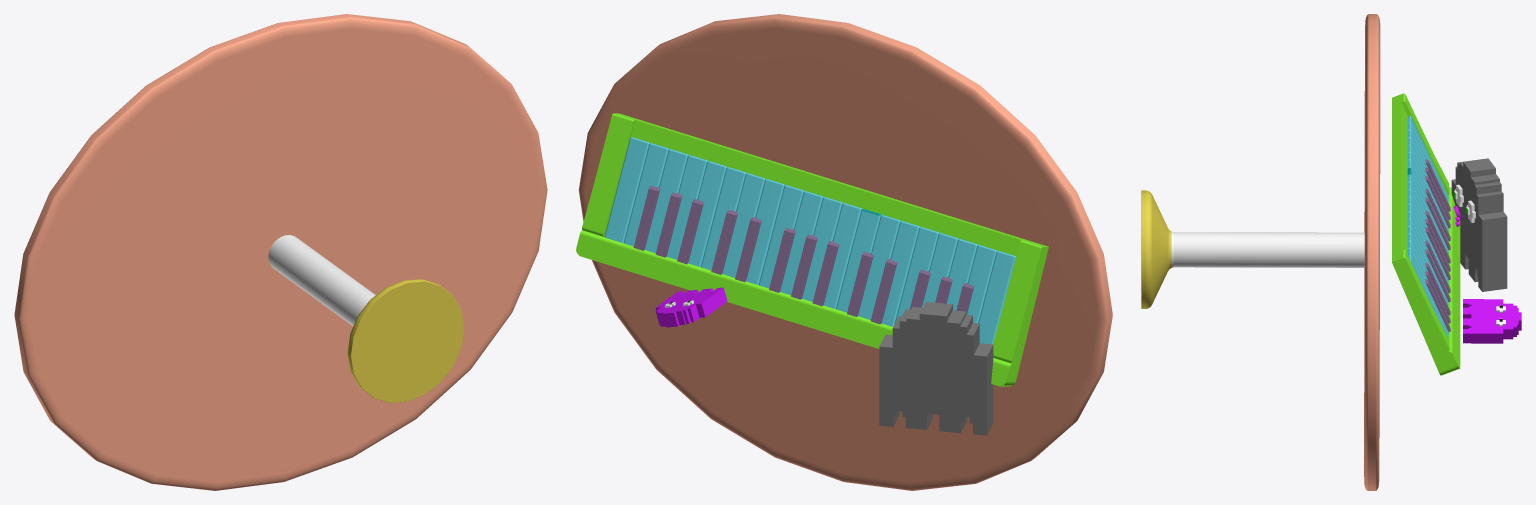
File: piano.glb
3 views of the same model, side by side, from view 1: azimuth 30°, elevation 25°; view 2: azimuth 150°, elevation 25°; view 3: azimuth 270°, elevation 25° (orthographic). The views are drawn at different scales.
Parts seen in each view (by area): view 1: pCylinder45; view 2: pCylinder45, group15_pCube24, group12_pCube53, group12_pCube53.001; view 3: pCylinder45, group15_pCube24, group12_pCube53, group12_pCube53.001.
Part boxes in pixels (x1,y1,x2,y2): pCylinder45: [14, 14, 547, 490]; pCylinder45: [578, 14, 1112, 490]; group15_pCube24: [576, 113, 1048, 386]; group12_pCube53: [879, 302, 993, 435]; group12_pCube53.001: [655, 287, 727, 327]; pCylinder45: [1141, 14, 1380, 490]; group15_pCube24: [1392, 93, 1460, 375]; group12_pCube53: [1451, 158, 1507, 291]; group12_pCube53.001: [1463, 299, 1521, 343].
Size of the model in its own units: 35.65 by 29.37 by 24.4.
